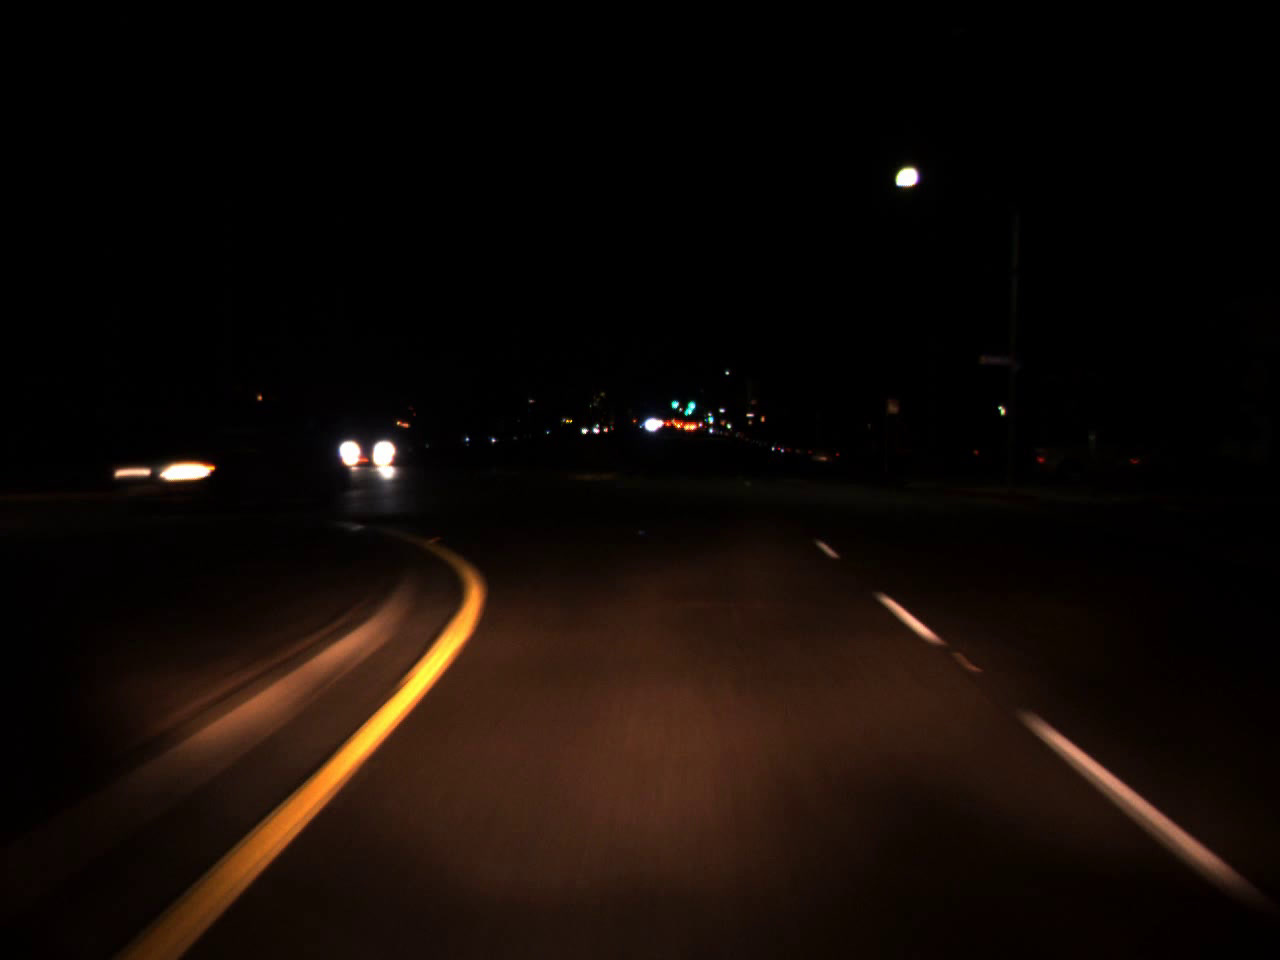go: (681, 390, 695, 414), (705, 405, 715, 426), (670, 394, 677, 409)
